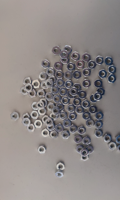nut: (104, 57, 114, 66), (94, 79, 103, 89), (87, 61, 97, 70), (82, 53, 91, 63), (82, 68, 91, 78), (52, 46, 61, 56), (41, 60, 50, 70), (25, 83, 34, 93), (59, 111, 68, 121), (22, 113, 32, 122), (108, 75, 117, 84), (98, 70, 107, 79), (82, 80, 91, 89), (73, 71, 82, 80), (60, 50, 69, 59), (54, 62, 63, 71), (55, 70, 64, 79), (46, 68, 55, 77), (56, 79, 65, 88), (11, 112, 20, 121), (41, 81, 50, 90), (23, 78, 32, 87), (28, 89, 37, 98), (38, 145, 47, 154), (103, 134, 112, 143), (95, 121, 104, 130), (95, 112, 104, 121), (76, 145, 85, 154), (74, 135, 83, 144), (94, 92, 103, 101), (73, 98, 82, 107), (51, 86, 60, 95), (53, 95, 62, 104), (61, 97, 70, 106), (63, 119, 72, 128), (52, 107, 61, 116), (56, 103, 65, 112), (47, 103, 56, 112), (31, 102, 40, 111), (22, 118, 31, 127), (30, 111, 39, 120), (34, 120, 43, 129), (96, 56, 104, 66), (72, 52, 80, 62), (67, 62, 75, 72), (109, 141, 117, 151), (70, 87, 78, 97), (45, 93, 55, 101), (76, 61, 85, 69), (64, 46, 72, 55), (64, 71, 72, 80), (39, 72, 47, 81), (48, 76, 56, 85), (45, 80, 54, 88), (32, 80, 40, 89), (20, 87, 28, 96), (37, 90, 46, 98), (55, 170, 64, 178), (95, 130, 103, 139), (86, 119, 94, 128), (78, 126, 86, 135), (83, 137, 91, 146), (86, 146, 94, 155), (81, 153, 89, 162), (70, 125, 78, 134), (89, 106, 97, 115), (97, 88, 105, 97), (82, 100, 90, 109), (78, 91, 87, 99), (59, 88, 68, 96), (67, 91, 76, 99), (67, 105, 76, 113), (83, 112, 91, 121), (69, 113, 77, 122), (56, 124, 64, 133), (50, 131, 59, 139), (42, 129, 50, 138), (38, 108, 47, 116), (26, 124, 35, 132), (108, 66, 116, 74), (61, 56, 69, 64), (65, 81, 73, 89), (57, 163, 65, 171), (81, 149, 89, 157), (62, 131, 70, 139), (90, 95, 98, 103), (74, 84, 82, 92), (76, 107, 84, 115), (45, 119, 53, 127), (40, 99, 48, 107), (42, 116, 50, 124), (37, 101, 44, 110), (48, 124, 55, 132), (50, 114, 58, 121), (116, 135, 120, 144), (118, 145, 120, 153)
